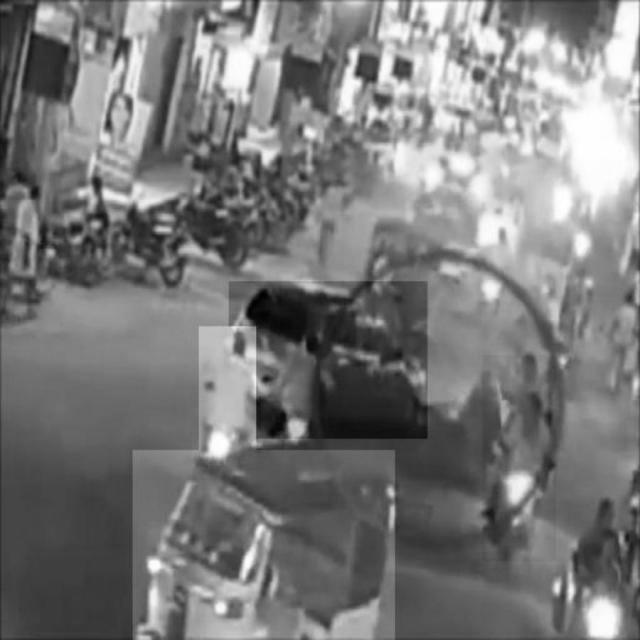vehicle: (133, 450, 395, 640), (229, 282, 427, 439), (483, 355, 556, 561), (200, 327, 257, 464)
